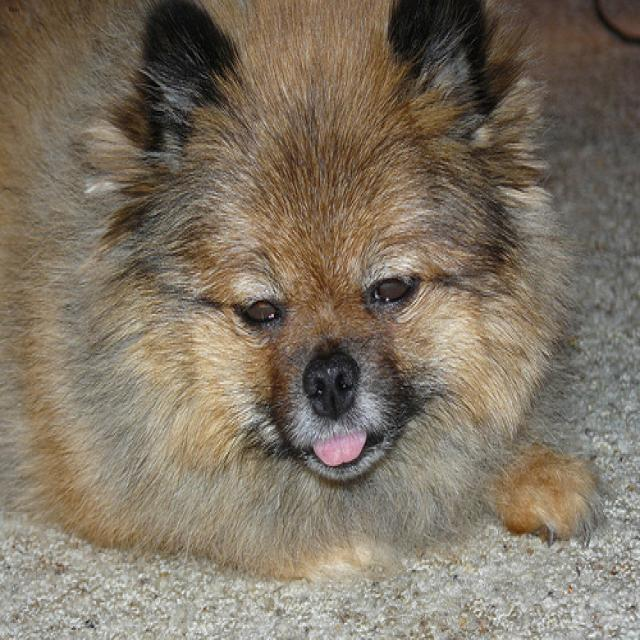dog-pomeranian: (1, 2, 612, 597)
